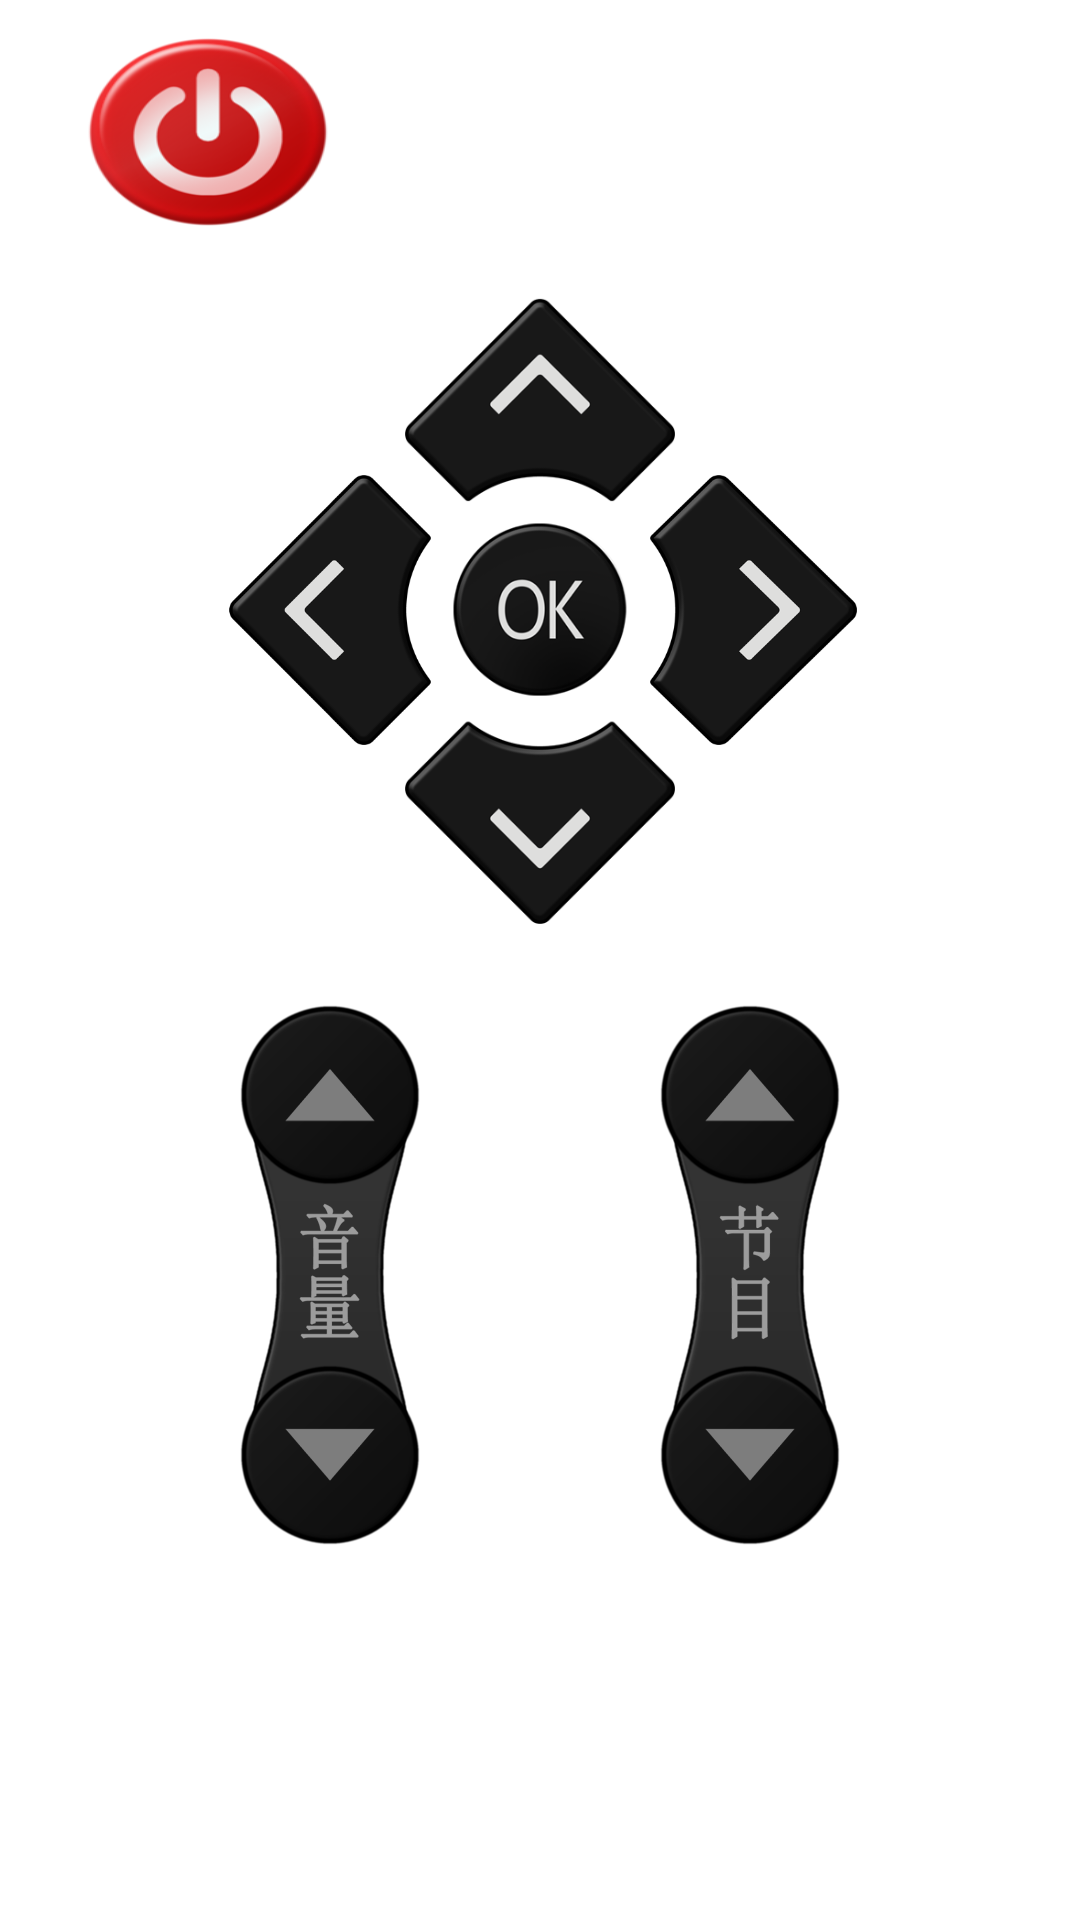

Screen size 1080px x 1920px. Icon name, then its box in pixels as (x1, y1, x2, y2):
down: (405, 721, 675, 924), (241, 1365, 419, 1544), (661, 1365, 839, 1544)
left: (229, 475, 431, 745)
right: (650, 475, 857, 745)
